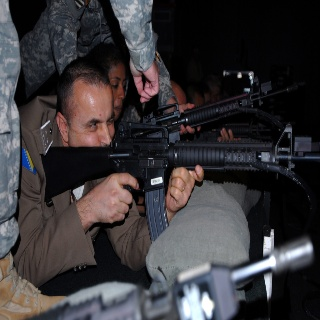rifle: (42, 121, 320, 244), (147, 75, 313, 136)
